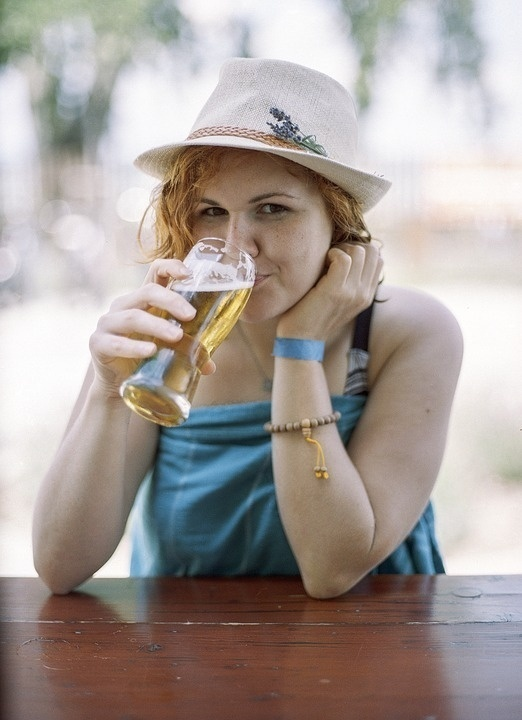whiskey: (116, 243, 252, 421)
